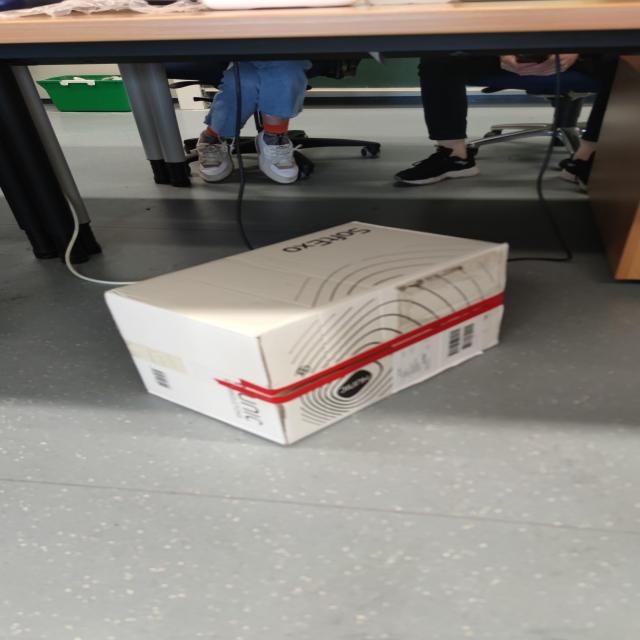box: (65, 196, 599, 438)
